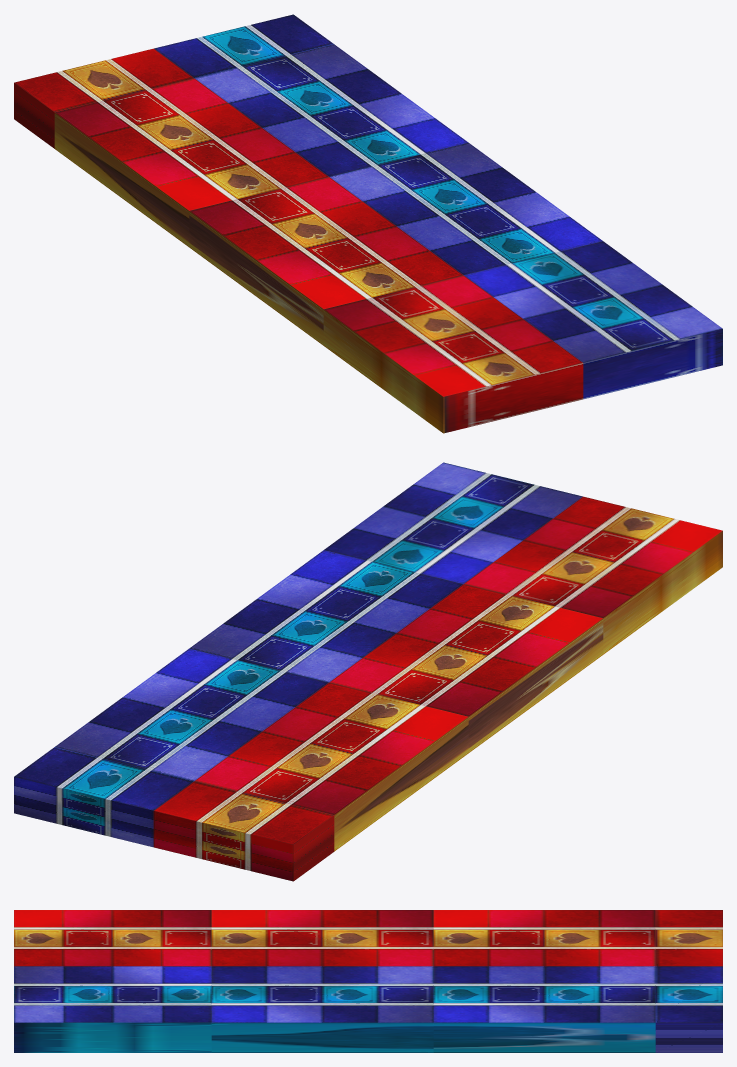
File: TR_Map2_FloorStart.fbx
3 views of the same model, one above another, from view 1: azimuth 30°, elevation 25°; view 2: azimuth 150°, elevation 25°; view 3: azimuth 270°, elevation 25° (orthographic). The views are drawn at different scales.
Visible parts, largest first — view 1: StartStage_Floor; view 2: StartStage_Floor; view 3: StartStage_Floor.
Part boxes in pixels (bbox=[...]): StartStage_Floor: bbox=[14, 14, 722, 433]; StartStage_Floor: bbox=[14, 462, 722, 881]; StartStage_Floor: bbox=[14, 910, 722, 1052].
Bounding box in the file's own units: 800 × 100 × 2128.
